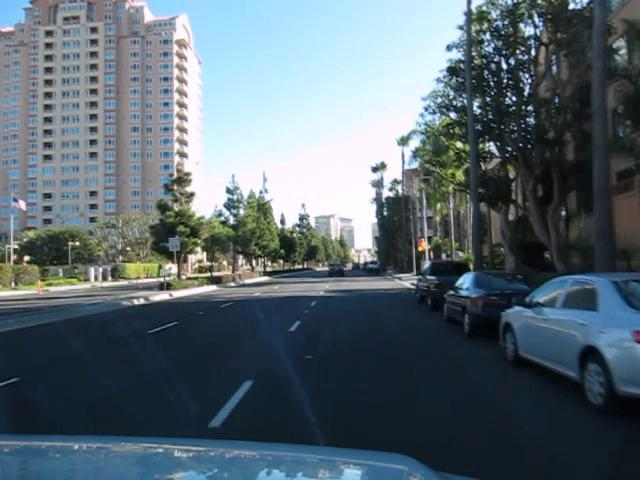speedLimit35: (168, 237, 180, 251)
